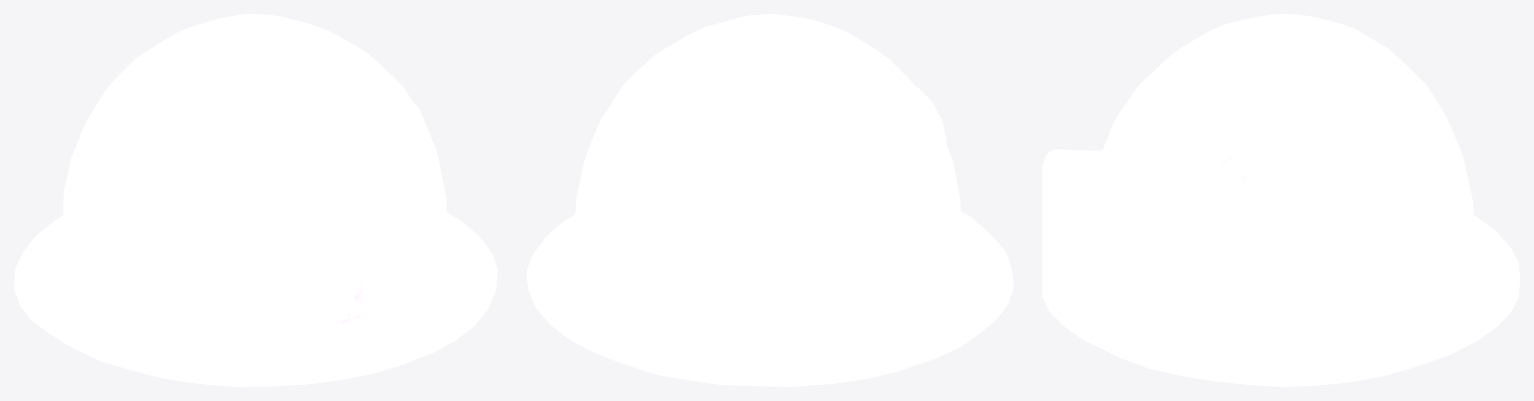
Rendered from iglu.glb.
3 renders of one model, left to right at view 1: azimuth 30°, elevation 25°; view 2: azimuth 150°, elevation 25°; view 3: azimuth 270°, elevation 25°, orthographic.
Parts seen in each view (by area): view 1: mesh_node; view 2: mesh_node; view 3: mesh_node.
Boxes of the visible parts, x1=… form: mesh_node: x1=14, y1=14, x2=497, y2=386; mesh_node: x1=526, y1=14, x2=1013, y2=386; mesh_node: x1=1042, y1=14, x2=1519, y2=386.
Size of the model in its own units: 1 by 0.6094 by 1.
1 material, 1 textured.
